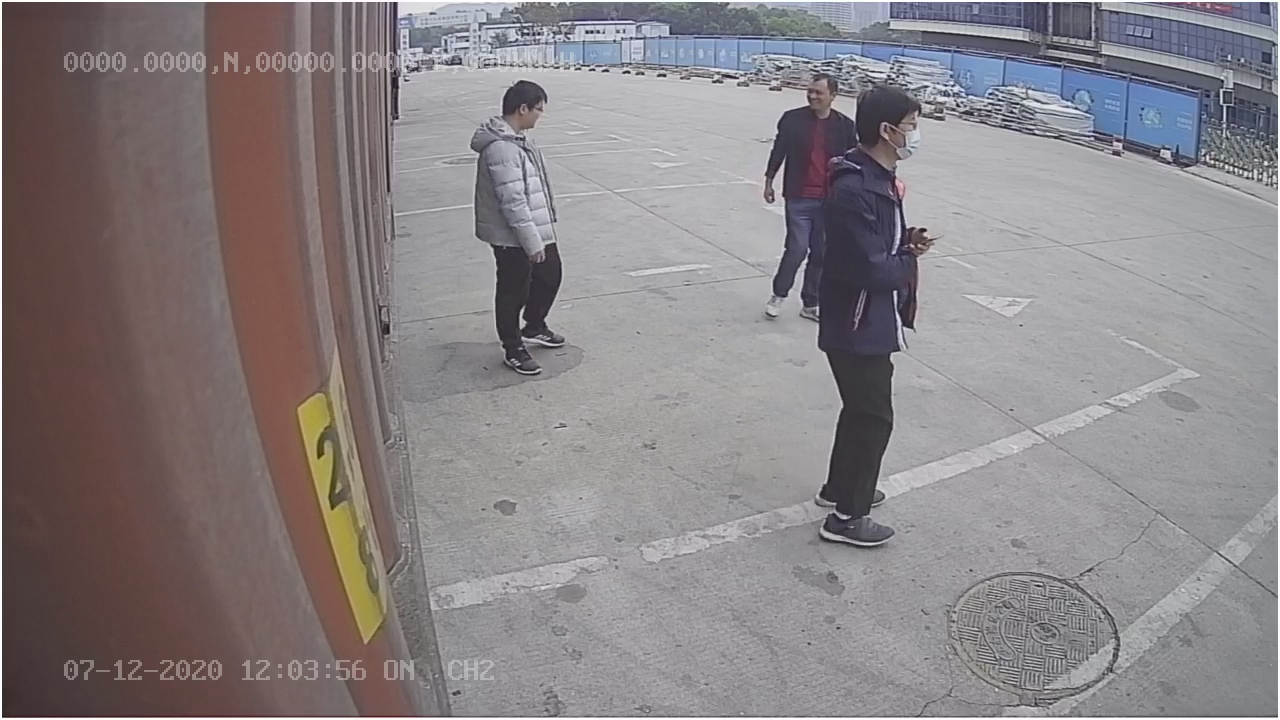person: (468, 74, 573, 379)
